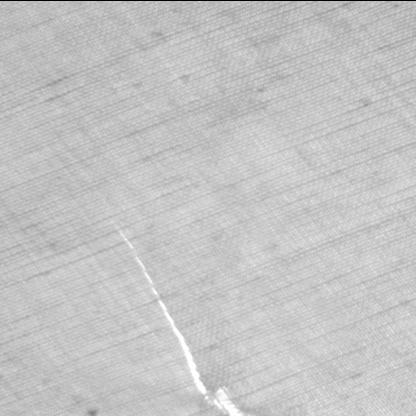hole: (102, 212, 256, 415)
